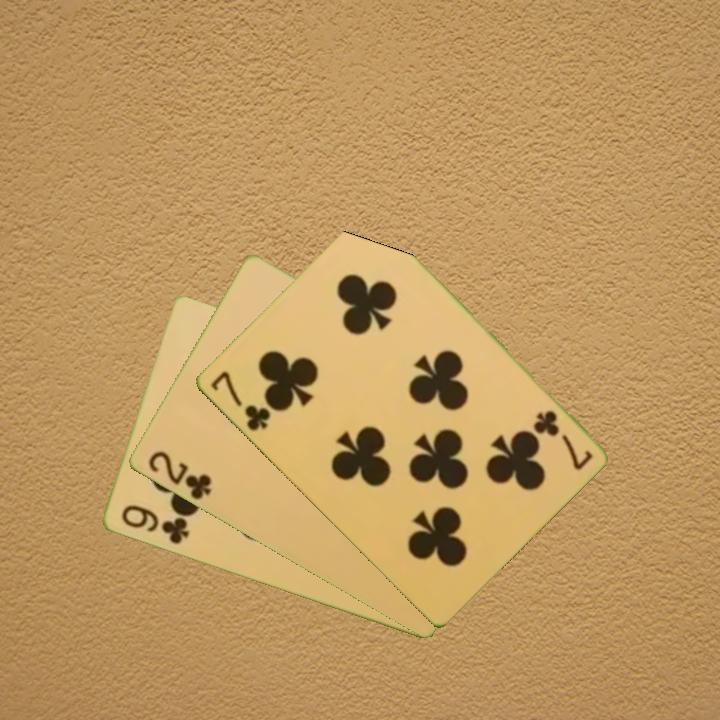2c: (144, 447, 214, 503)
7c: (206, 367, 273, 434), (529, 407, 596, 473)
9c: (117, 501, 192, 548)
